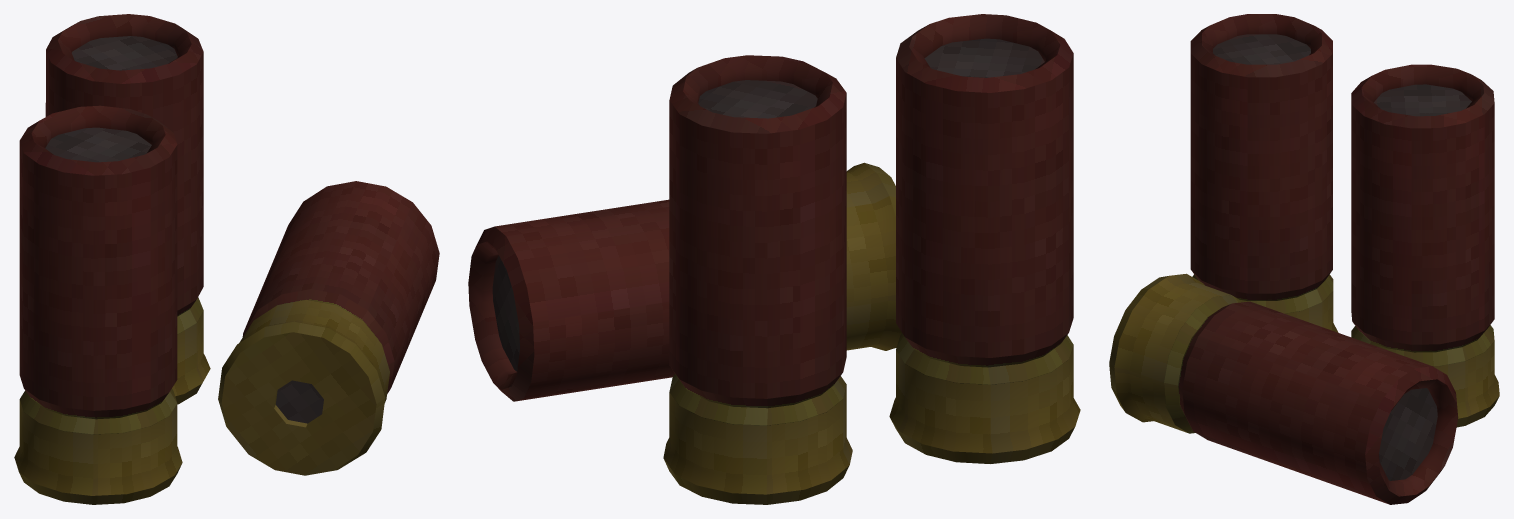
Rendered from shotgun_ammo_1.glb.
3 renders of one model, left to right at view 1: azimuth 30°, elevation 25°; view 2: azimuth 150°, elevation 25°; view 3: azimuth 270°, elevation 25°, orthographic. The views are drawn at different scales.
Parts seen in each view (by area): view 1: shotgun_ammo_1; view 2: shotgun_ammo_1; view 3: shotgun_ammo_1.
Boxes of the visible parts, box(x1,y1,x2,y2) form: shotgun_ammo_1: box(14, 14, 439, 504); shotgun_ammo_1: box(468, 14, 1080, 504); shotgun_ammo_1: box(1109, 14, 1499, 504).
Size of the model in its own units: 0.1239 by 0.0854 by 0.0971.
Materials: 1 (1 with a texture image).
